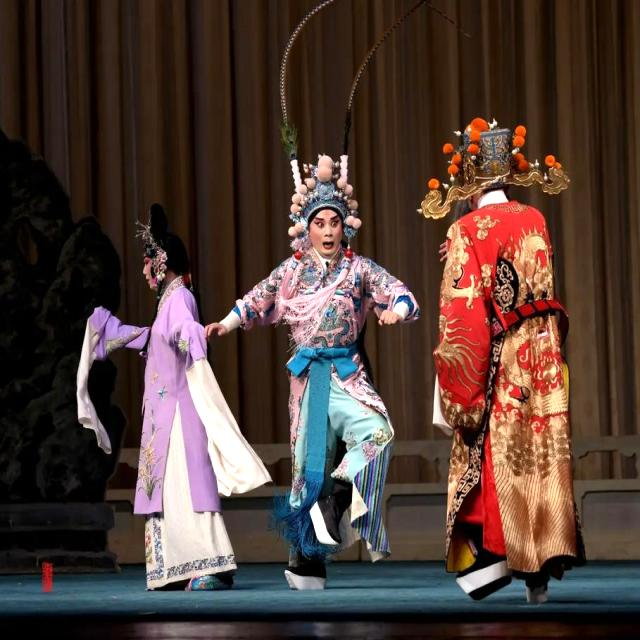Reeves-s Pheasant: (280, 0, 337, 130)
